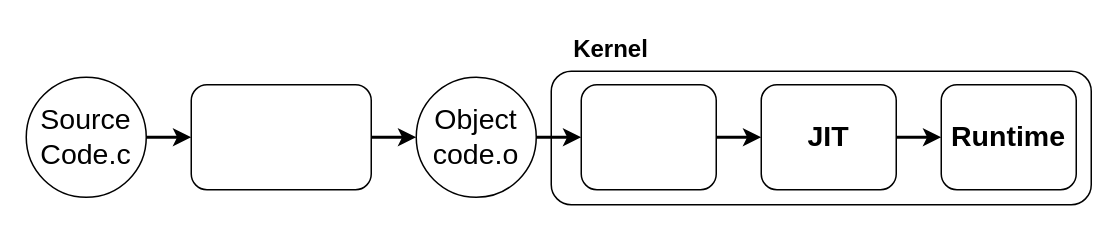
The diagram is 1118 pixels wide and 231 high, and some of its shapes have lost their labels. The centre of each missing label's shape, as x and y in pixels:
"Compiler" goes at point (280, 136).
"Verifier" goes at point (648, 136).
